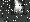person: (12, 1, 26, 16)
